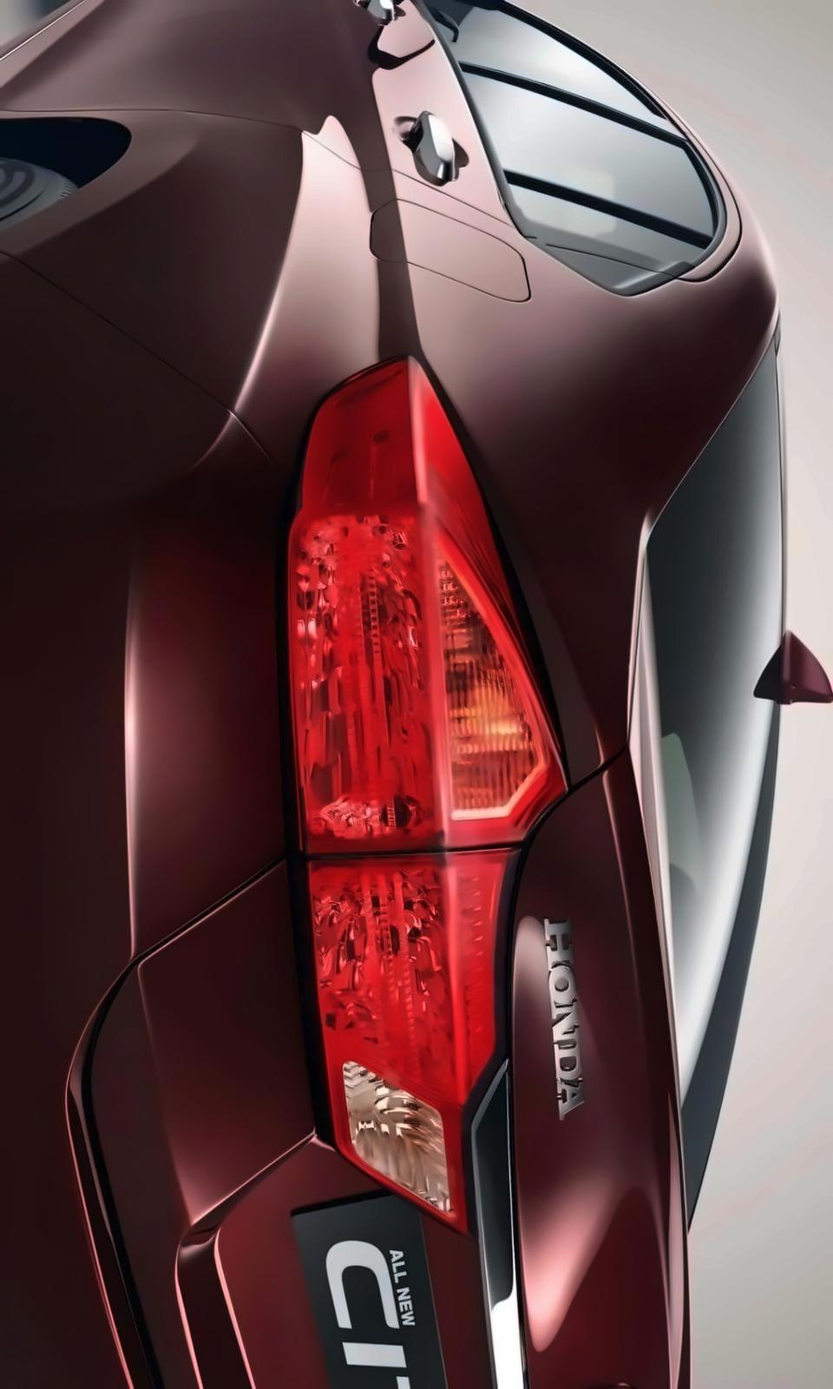Car boot: (74, 740, 665, 1389)
Fender - -R-L-: (0, 100, 754, 511)
Passenger-s door - -R-L-: (0, 18, 754, 312)
Rear bumper: (0, 237, 297, 1389)
Rear light - -L-: (289, 358, 574, 1242)
